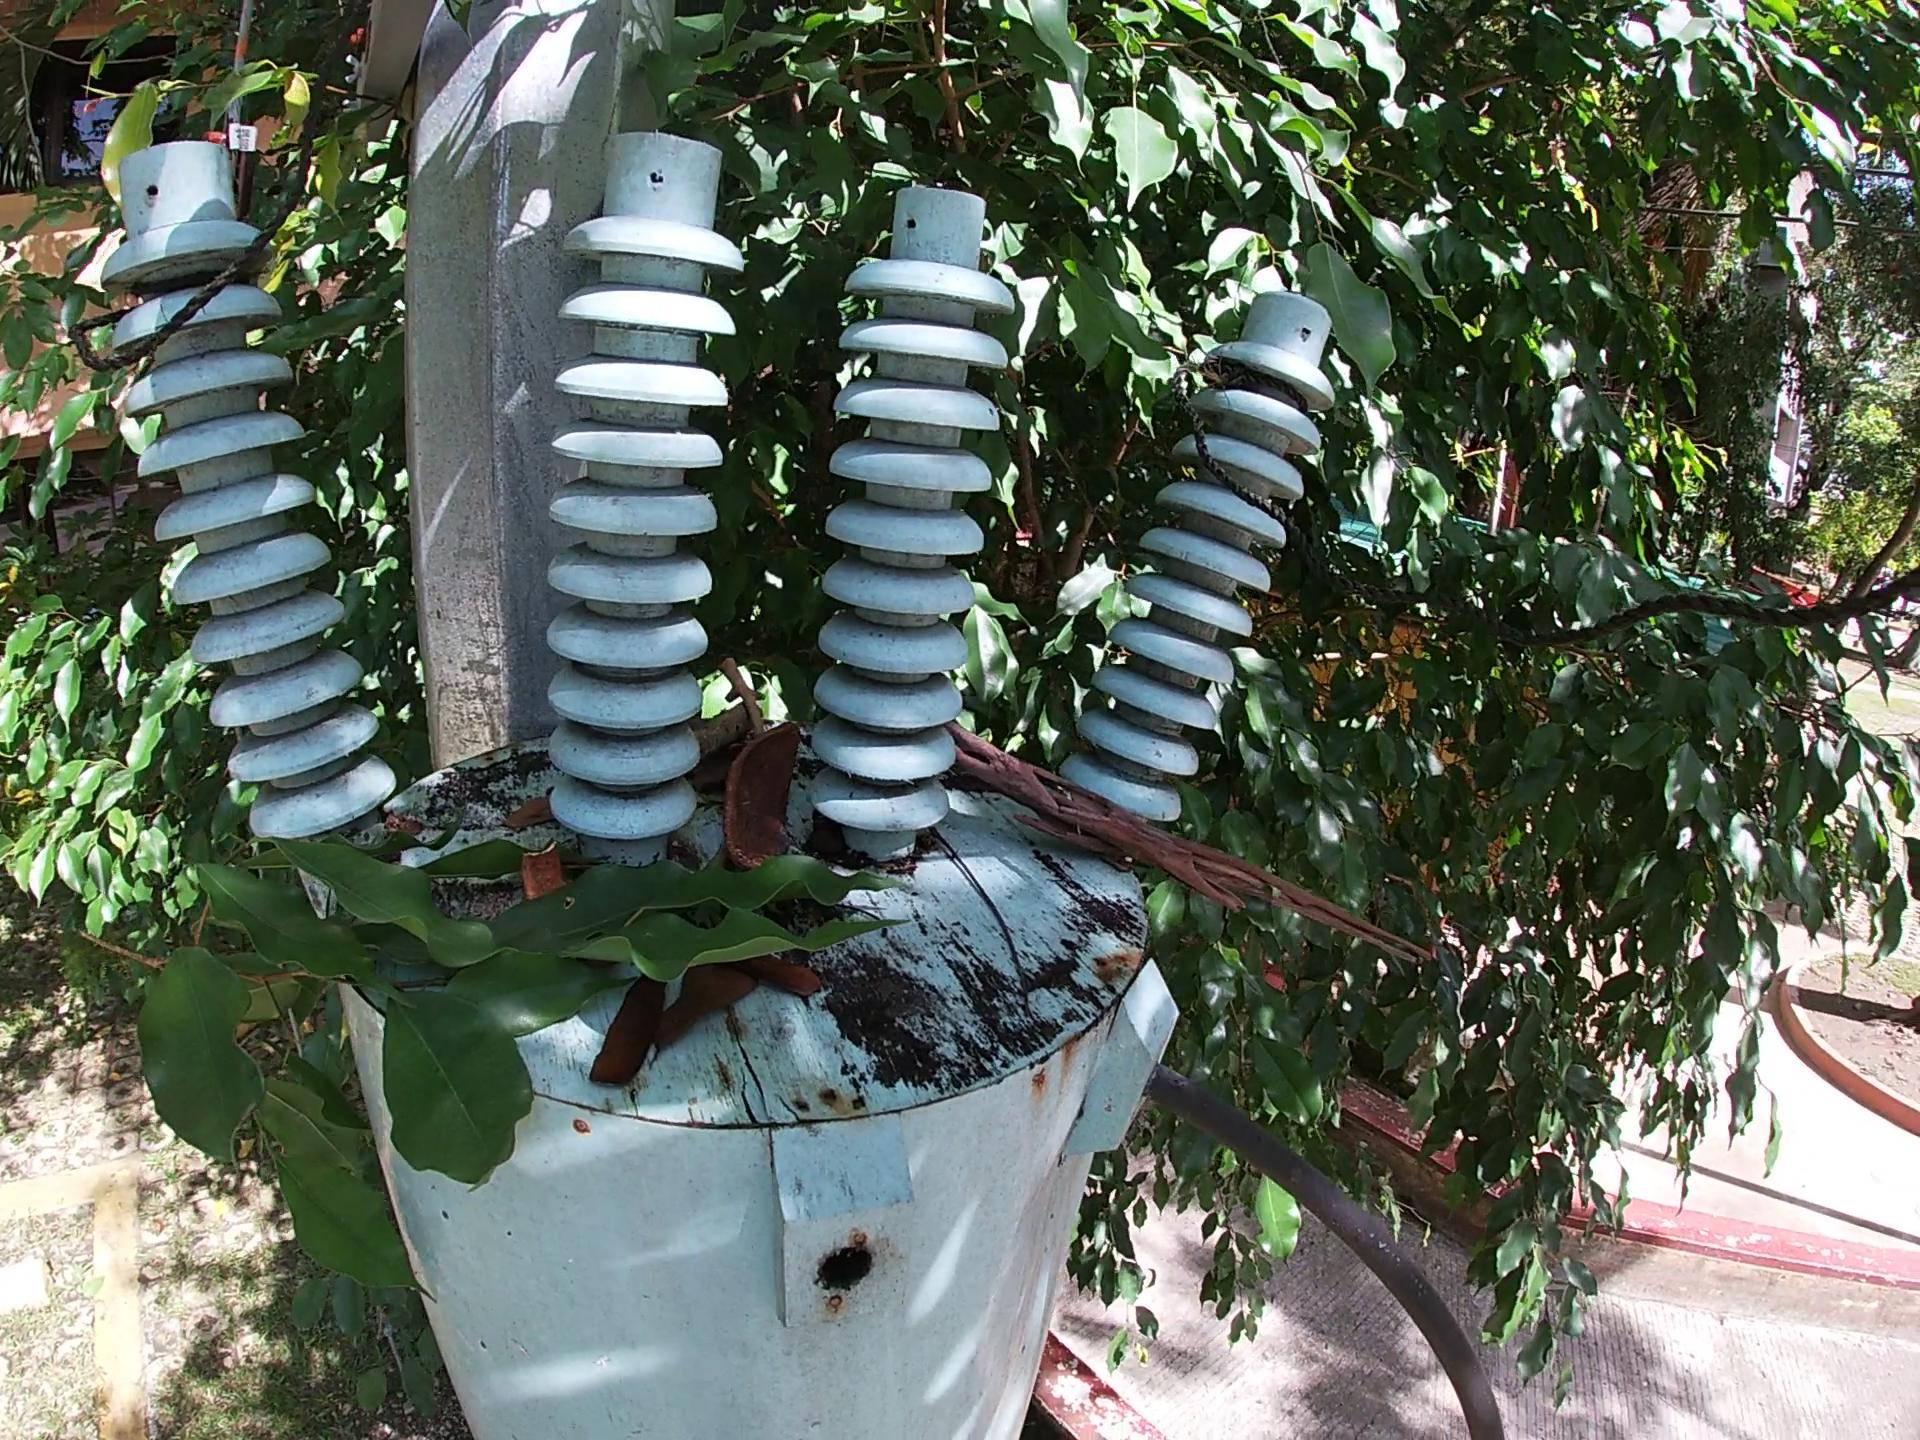branch with leaves: (129, 829, 939, 1308)
leaf: (649, 961, 760, 1069), (581, 971, 670, 1100), (723, 948, 836, 1004), (494, 793, 558, 843)
mahogany fruit: (720, 722, 806, 873), (517, 839, 565, 902)
tree branch: (939, 718, 1441, 973), (717, 652, 773, 740), (689, 703, 757, 762)
